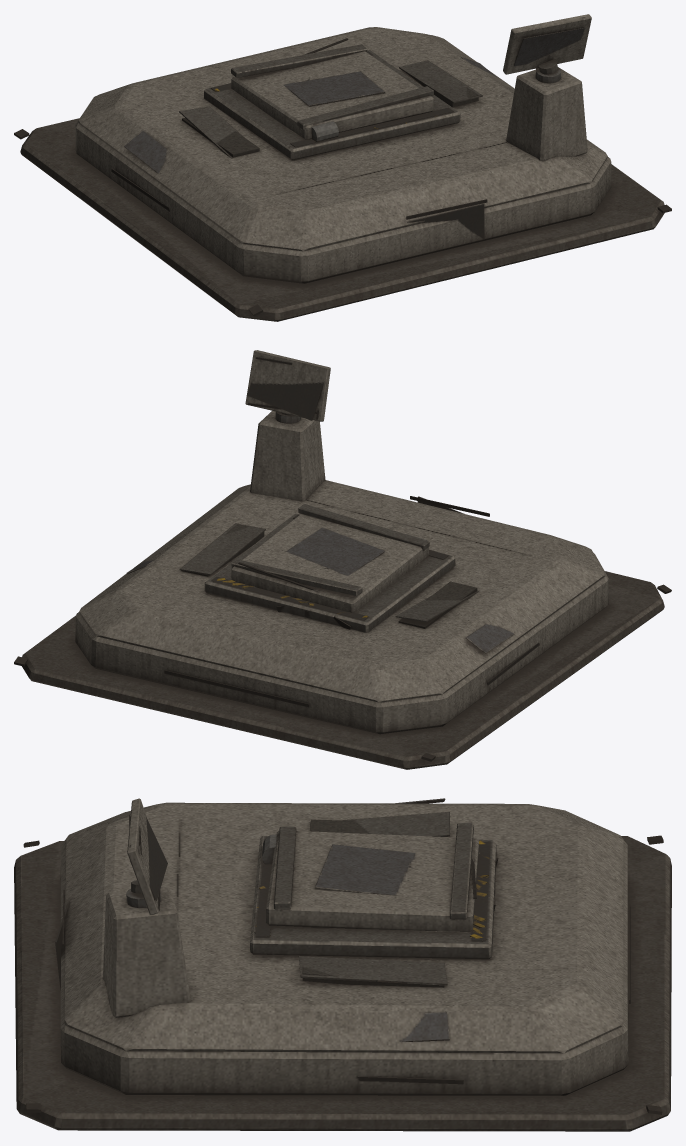
The model's file is ord_providence_wreck.fbx.
3 renders of one model, top to bottom at view 1: azimuth 30°, elevation 25°; view 2: azimuth 150°, elevation 25°; view 3: azimuth 270°, elevation 25°, orthographic. The views are drawn at different scales.
Visible parts, largest first — view 1: base_bar, hatch_bar, radar_bar; view 2: base_bar, hatch_bar, radar_bar; view 3: base_bar, hatch_bar, radar_bar.
Part boxes in pixels (box(x1,y1,x2,y2)): base_bar: box(14, 27, 671, 321); hatch_bar: box(231, 38, 433, 141); radar_bar: box(503, 14, 591, 74); base_bar: box(14, 411, 671, 769); hatch_bar: box(231, 504, 429, 612); radar_bar: box(245, 350, 330, 421); base_bar: box(14, 798, 671, 1131); hatch_bar: box(262, 822, 478, 931); radar_bar: box(127, 798, 167, 914).
Bounding box in the file's own units: 2326 × 1186 × 2320.
2 materials, 2 textured.
